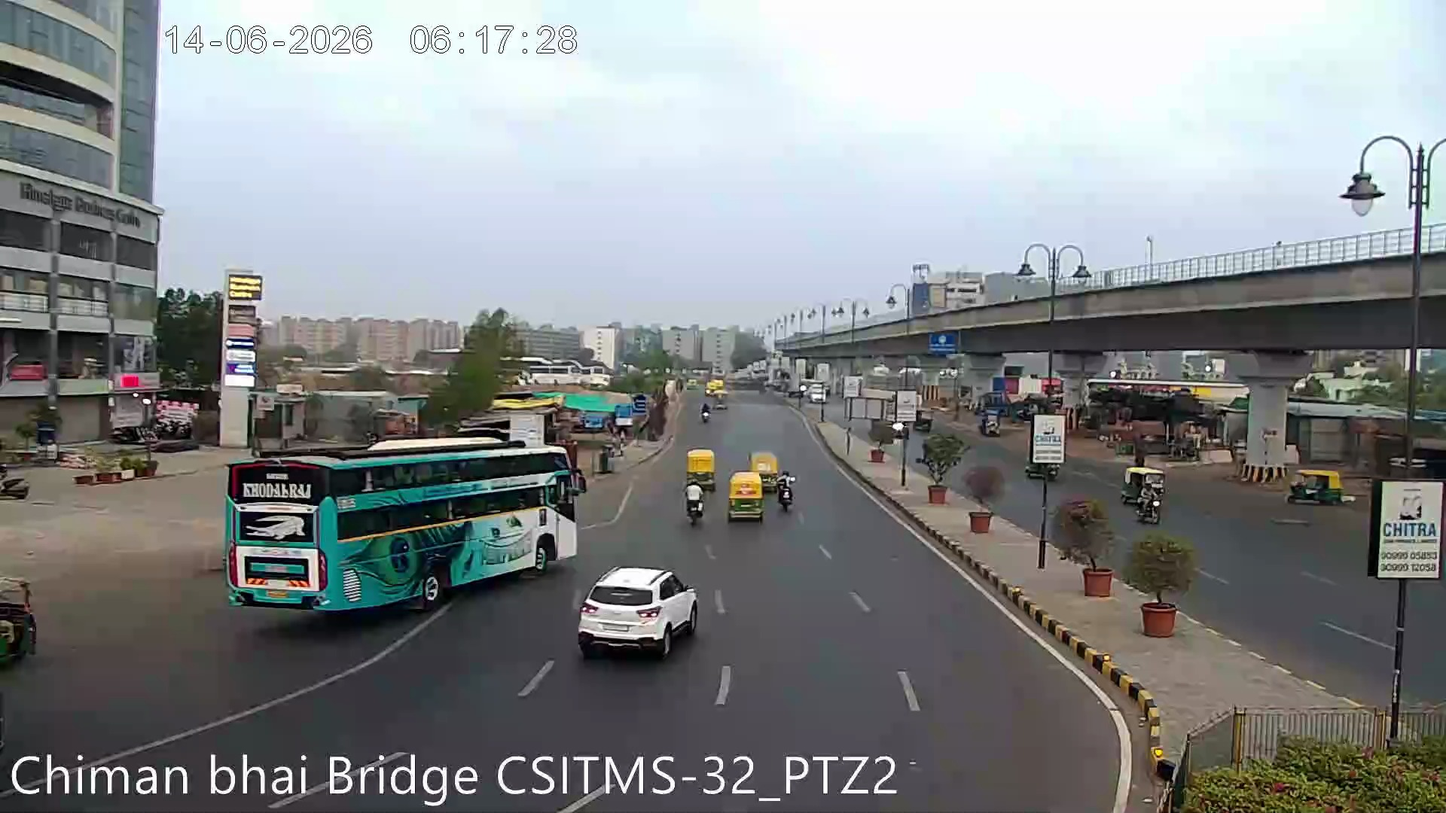auto_rickshaw: (0, 571, 41, 675), (1287, 463, 1347, 507), (727, 469, 765, 521), (684, 445, 717, 484)
bus: (214, 443, 598, 599)
car: (578, 560, 701, 655)
two_wheeler: (682, 480, 708, 530), (1135, 488, 1165, 528), (776, 468, 797, 515), (699, 396, 715, 426)
